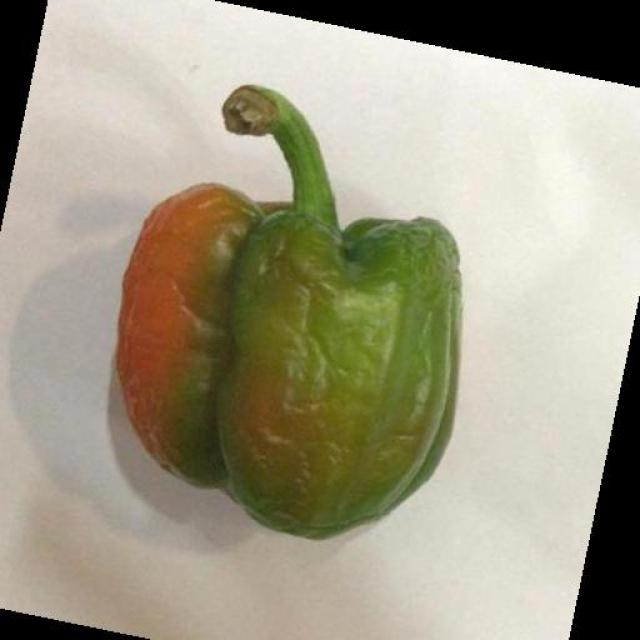Stale_Capsicum: (144, 84, 462, 543)
